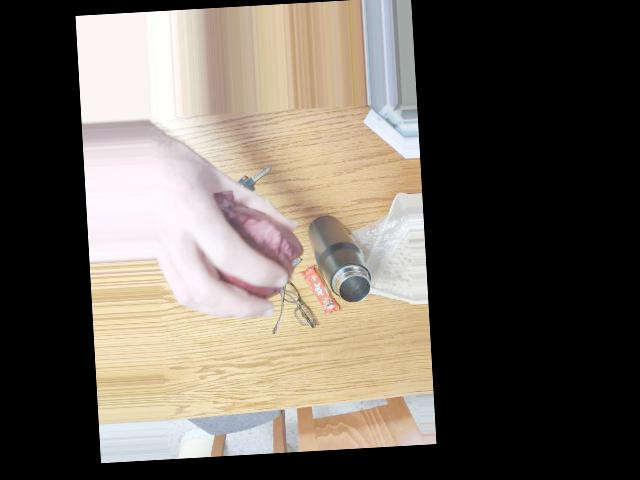onion: (215, 214, 298, 305)
